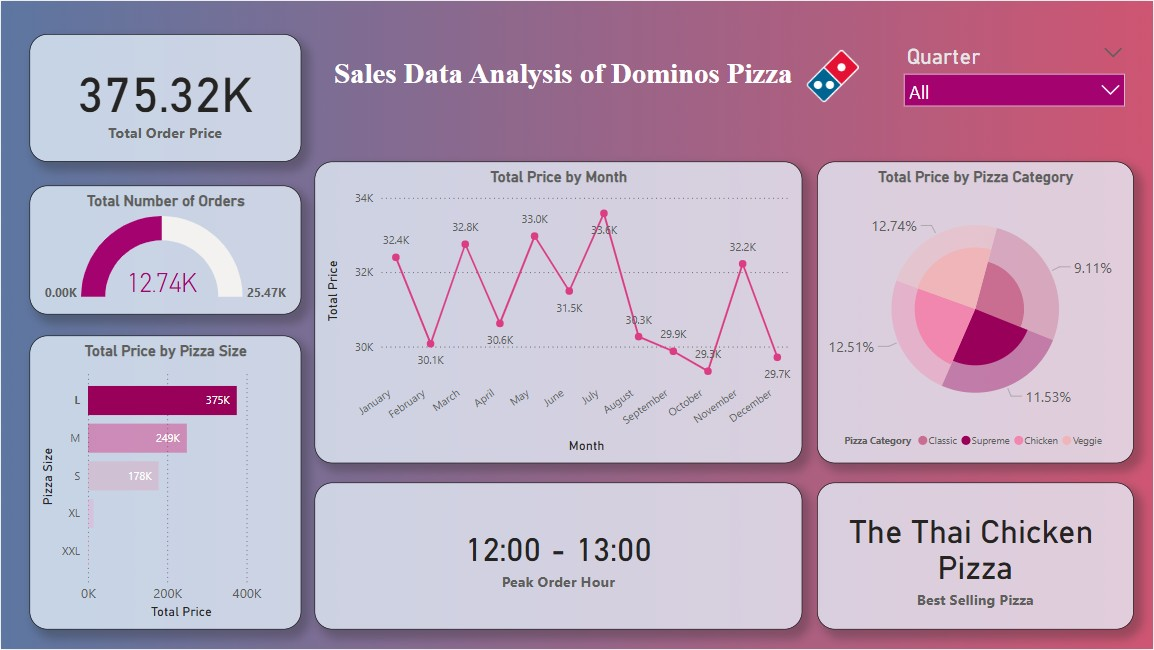

The page's visual inventory and layout, read from the dashboard file:
{"tool":"powerbi","page":{"name":"Page 1","canvas":[1280,720],"ordinal":0},"visuals":[{"type":"card","fields":{"Values":["Sum(pizza_sales.total_price)"]},"box":[31.7,36.7,301.7,141.7],"z":0},{"type":"pieChart","fields":{"Y":["Sum(pizza_sales.total_price)"],"Category":["pizza_sales.pizza_category"]},"box":[906.7,178.3,351.7,335],"z":1000},{"type":"lineChart","fields":{"Category":["pizza_sales.order_date.Variation.Date Hierarchy.Month"],"Y":["Sum(pizza_sales.total_price)"]},"box":[348.3,178.3,541.7,335],"z":2000},{"type":"slicer","fields":{"Values":["pizza_sales.order_date.Variation.Date Hierarchy.Quarter"]},"box":[993.3,41.7,265,83.3],"z":3000},{"type":"barChart","fields":{"Category":["pizza_sales.pizza_size"],"Y":["Sum(pizza_sales.total_price)"]},"box":[31.7,371.7,301.7,326.7],"z":4000},{"type":"card","fields":{"Values":["pizza_sales.Best Selling Pizza"]},"box":[906.7,535,351.7,163.3],"z":5000},{"type":"card","fields":{"Values":["pizza_sales.Peak Order Hour"]},"box":[348.3,535,541.7,163.3],"z":6000},{"type":"gauge","fields":{"Y":["Count(pizza_sales.order_id)"]},"box":[31.7,205,301.7,143.3],"z":7000},{"type":"textbox","box":[365,56.7,541.7,53.3],"z":8000},{"type":"image","box":[890,48.3,68.3,70],"z":9000}]}

Visuals, with their boxes in screenshot pixels (x1, y1, x2, y2), scaled from the page's 1280x720 canvas onto the 1154x650 screenshot:
card - Sum(pizza_sales.total_price): BBox(29, 33, 301, 161)
pieChart - Sum(pizza_sales.total_price) x pizza_sales.pizza_category: BBox(817, 161, 1135, 463)
lineChart - pizza_sales.order_date.Variation.Date Hierarchy.Month x Sum(pizza_sales.total_price): BBox(314, 161, 802, 463)
slicer - pizza_sales.order_date.Variation.Date Hierarchy.Quarter: BBox(896, 38, 1134, 113)
barChart - pizza_sales.pizza_size x Sum(pizza_sales.total_price): BBox(29, 336, 301, 630)
card - pizza_sales.Best Selling Pizza: BBox(817, 483, 1135, 630)
card - pizza_sales.Peak Order Hour: BBox(314, 483, 802, 630)
gauge - Count(pizza_sales.order_id): BBox(29, 185, 301, 314)
textbox: BBox(329, 51, 817, 99)
image: BBox(802, 44, 864, 107)
